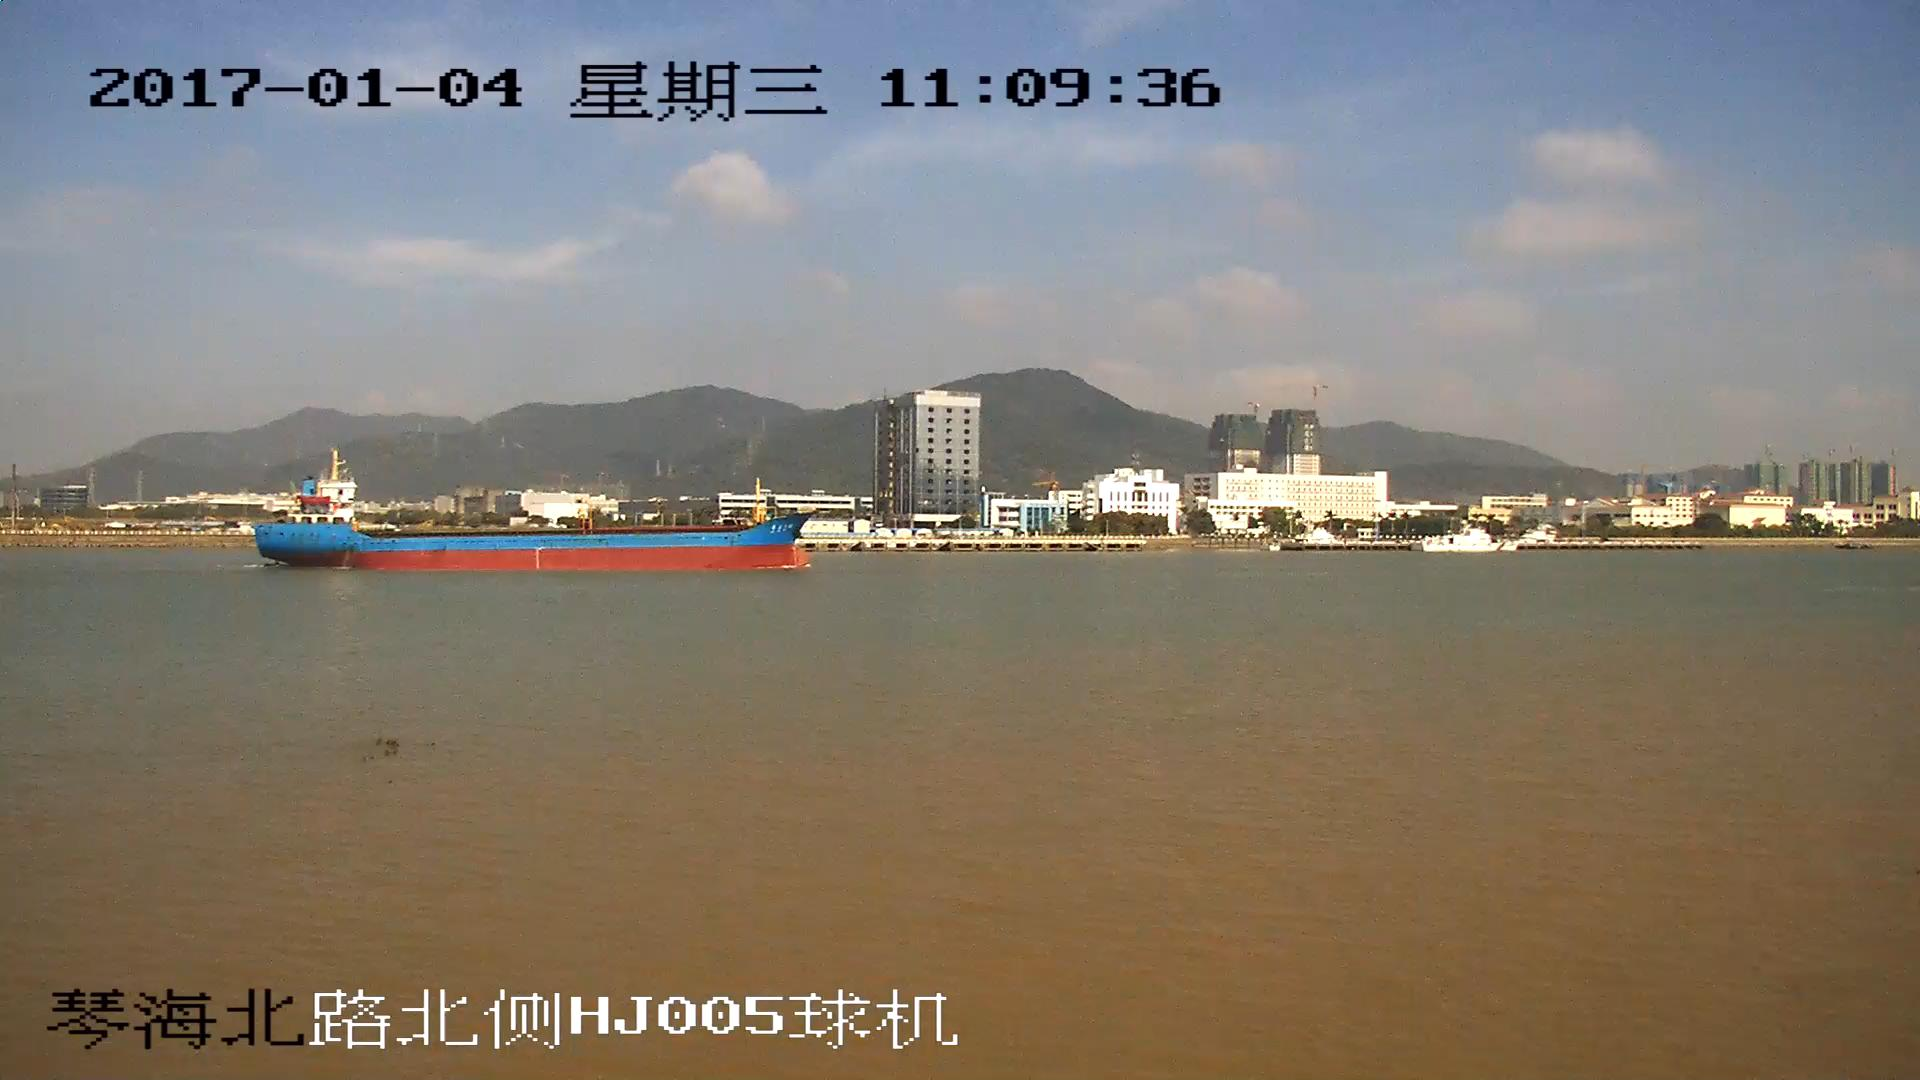general cargo ship: (254, 447, 813, 574)
